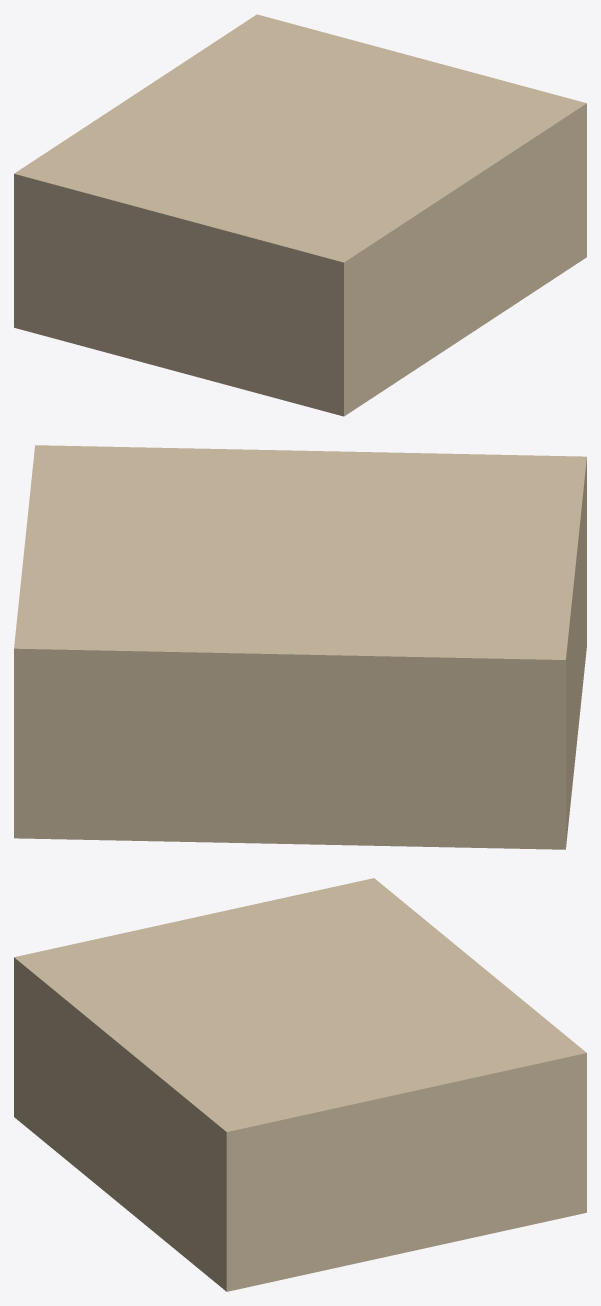
Rendered from -23_11-estimated-coarse.glb.
The picture shows the model from 3 angles, top to bottom: view 1: azimuth 30°, elevation 25°; view 2: azimuth 150°, elevation 25°; view 3: azimuth 270°, elevation 25°; orthographic projection. The views are drawn at different scales.
Size of the model in its own units: 40.93 by 12 by 39.
